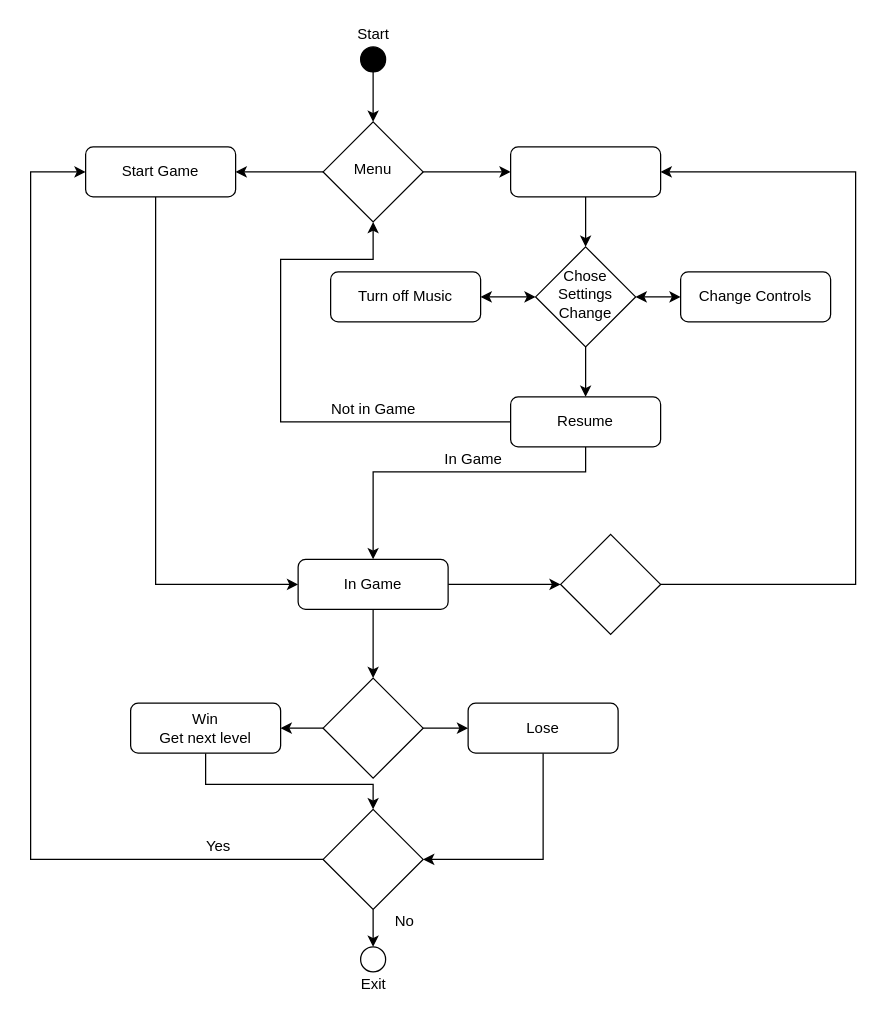
This 888x1018 diagram has some shape labels left out. Here are the shapes that lost their labels. From the top down, the centre of each, then its label:
At (585,171): "Settings".
At (610,583): "Change Settings".
At (372,727): "Result of Game".
At (372,858): "Play again?".
